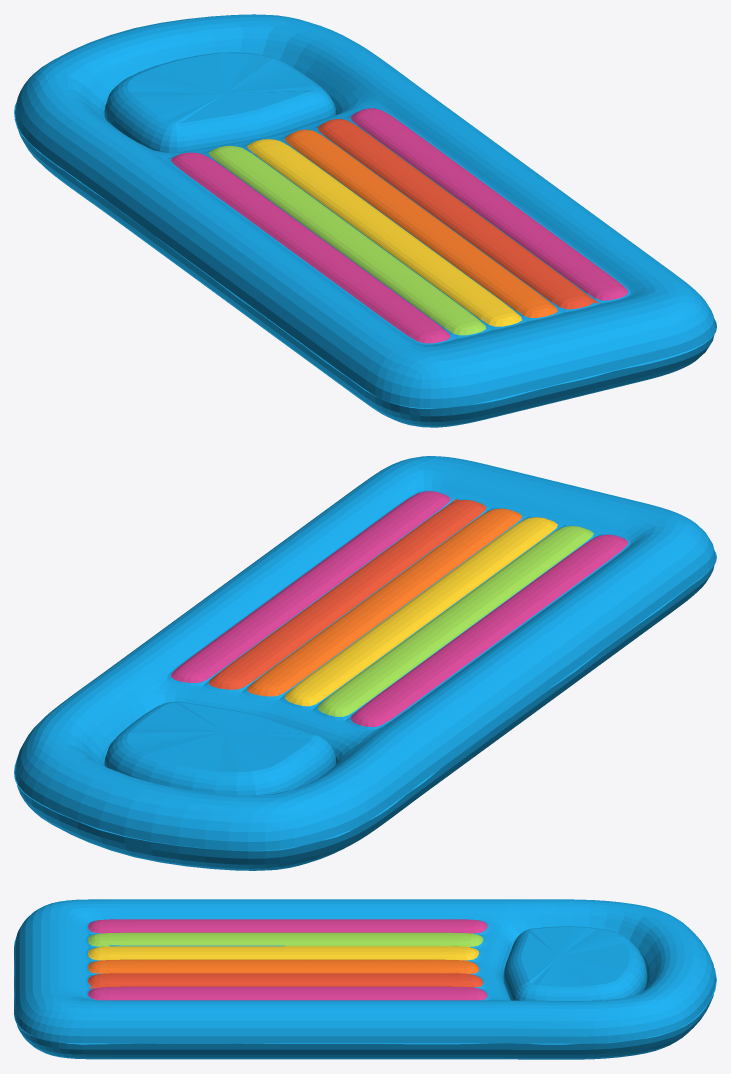
File: Colorfull Mattress.fbx
The picture shows the model from 3 angles, top to bottom: view 1: azimuth 30°, elevation 25°; view 2: azimuth 150°, elevation 25°; view 3: azimuth 270°, elevation 25°; orthographic projection. The views are drawn at different scales.
Visible parts, largest first — view 1: Inflatable_pool_mattress; view 2: Inflatable_pool_mattress; view 3: Inflatable_pool_mattress.
Part boxes in pixels (x1,y1,x2,y2): Inflatable_pool_mattress: (14,14,716,427); Inflatable_pool_mattress: (14,456,716,870); Inflatable_pool_mattress: (14,899,716,1059).
Size of the model in its own units: 1.54 by 0.2994 by 3.56.
